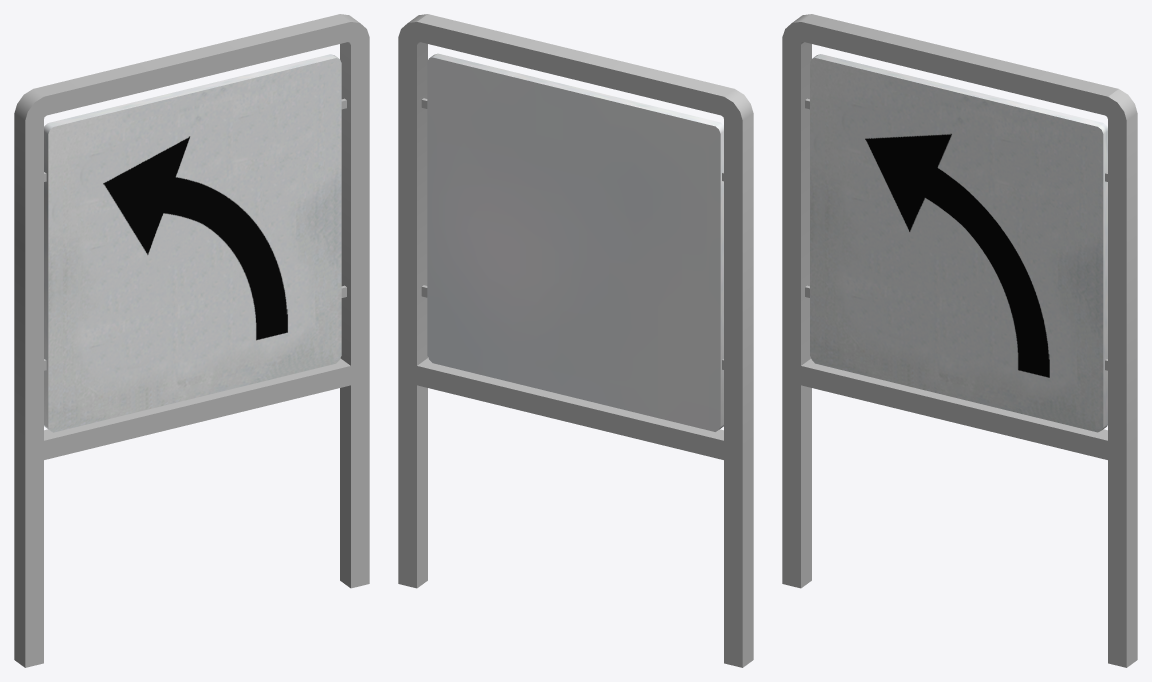
Rendered from Track_Sign_Left_Turn.fbx.
3 renders of one model, left to right at view 1: azimuth 30°, elevation 25°; view 2: azimuth 150°, elevation 25°; view 3: azimuth 330°, elevation 25°, orthographic.
Parts seen in each view (by area): view 1: Left_Turn, Frame; view 2: Left_Turn, Frame; view 3: Left_Turn, Frame.
Part boxes in pixels (box(x1,y1,x2,y2)): Left_Turn: box(44, 54, 341, 432); Frame: box(14, 14, 369, 667); Left_Turn: box(427, 53, 723, 431); Frame: box(398, 14, 753, 667); Left_Turn: box(810, 54, 1107, 432); Frame: box(782, 14, 1137, 667).
Bounding box in the file's own units: 130 × 204 × 7.
